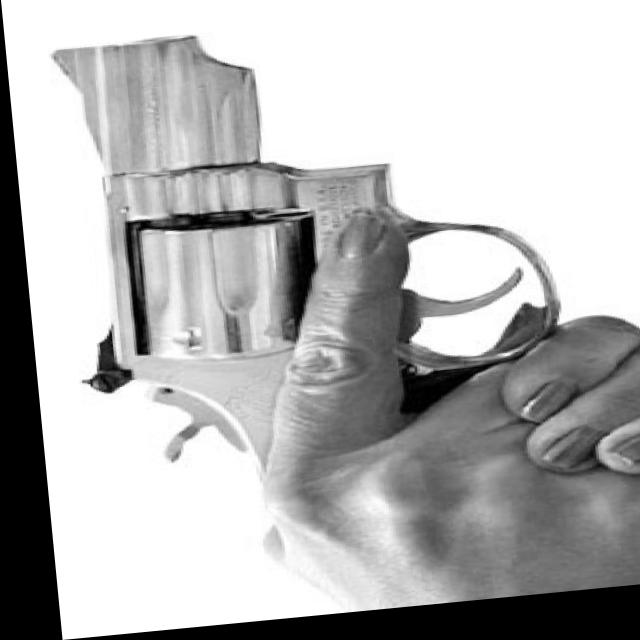handgun: (42, 11, 560, 520)
